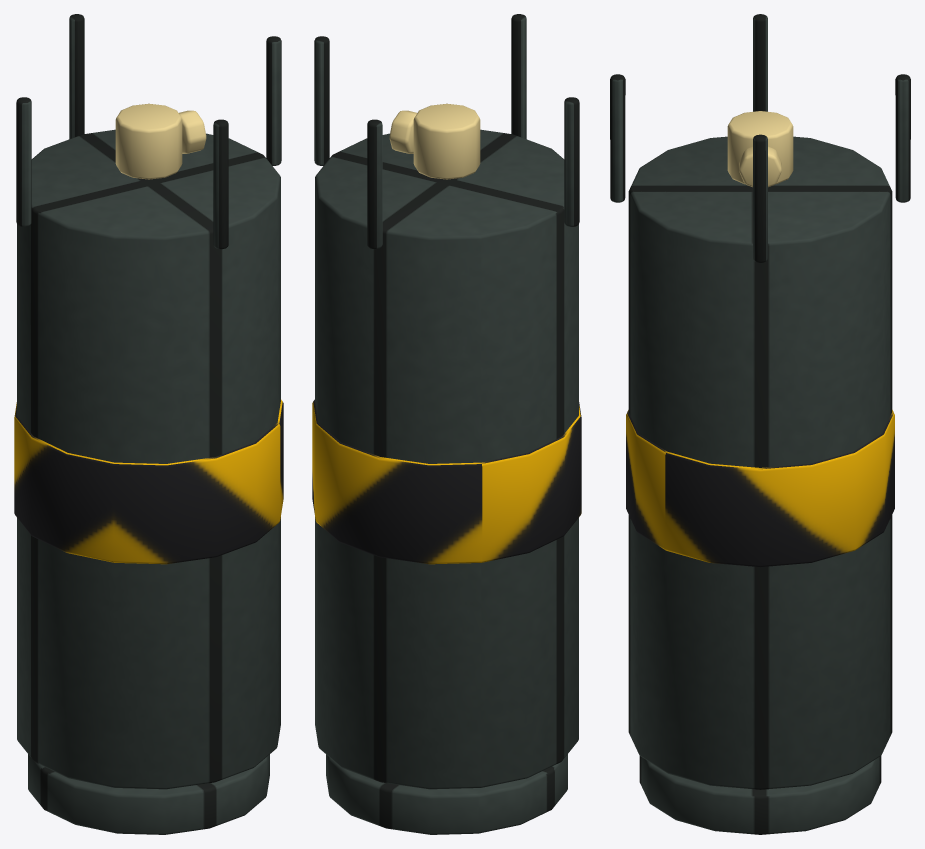
The model's file is WK_PROP_CANISTER_A_01.glb.
3 renders of one model, left to right at view 1: azimuth 30°, elevation 25°; view 2: azimuth 150°, elevation 25°; view 3: azimuth 270°, elevation 25°, orthographic.
Visible parts, largest first — view 1: WK_PROP_CANISTER_A_01; view 2: WK_PROP_CANISTER_A_01; view 3: WK_PROP_CANISTER_A_01.
Part boxes in pixels (x1,y1,x2,y2): WK_PROP_CANISTER_A_01: (14,14,283,834); WK_PROP_CANISTER_A_01: (312,14,581,834); WK_PROP_CANISTER_A_01: (610,14,910,834).
Size of the model in its own units: 0.5482 by 1.42 by 0.5482.
Materials: 3 (2 with a texture image).
